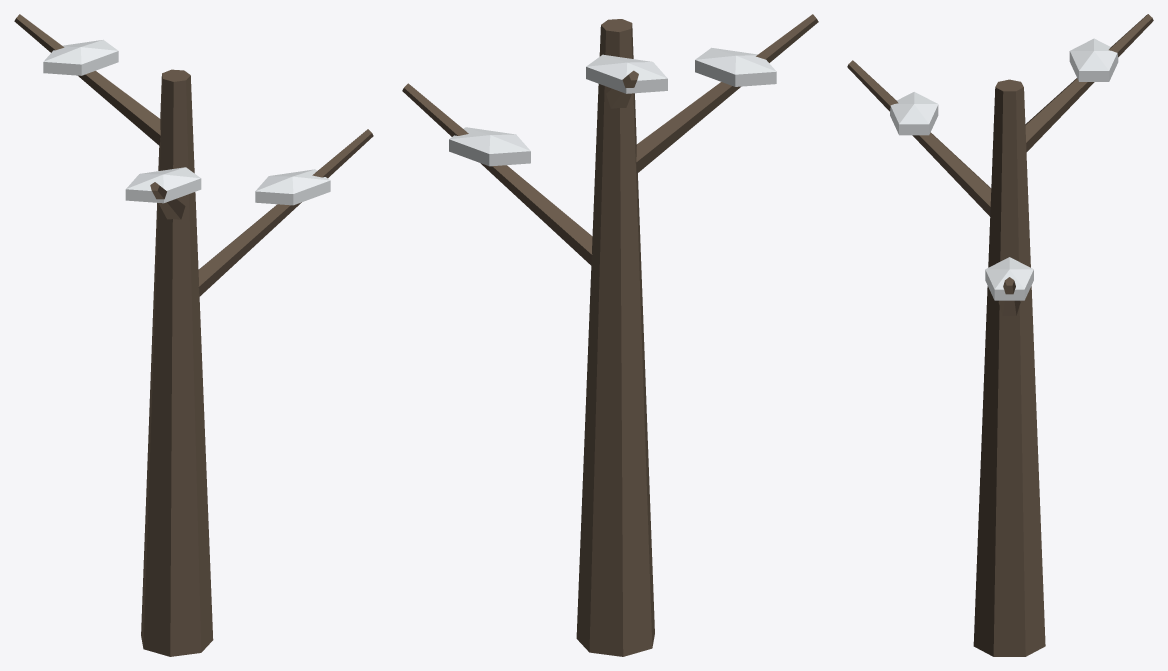
The model's file is tree_bare_snowy.glb.
3 renders of one model, left to right at view 1: azimuth 30°, elevation 25°; view 2: azimuth 150°, elevation 25°; view 3: azimuth 270°, elevation 25°, orthographic. The views are drawn at different scales.
Parts seen in each view (by area): view 1: tree_bare_snowy; view 2: tree_bare_snowy; view 3: tree_bare_snowy.
Boxes of the visible parts, box(x1,y1,x2,y2) form: tree_bare_snowy: box(14, 14, 373, 656); tree_bare_snowy: box(402, 14, 818, 656); tree_bare_snowy: box(847, 14, 1153, 656).
Size of the model in its own units: 1.39 by 2.64 by 1.25.
